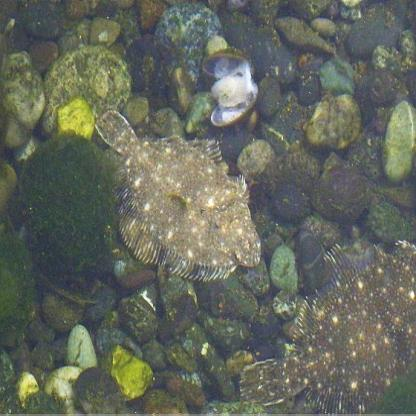flounder: (79, 85, 279, 289)
